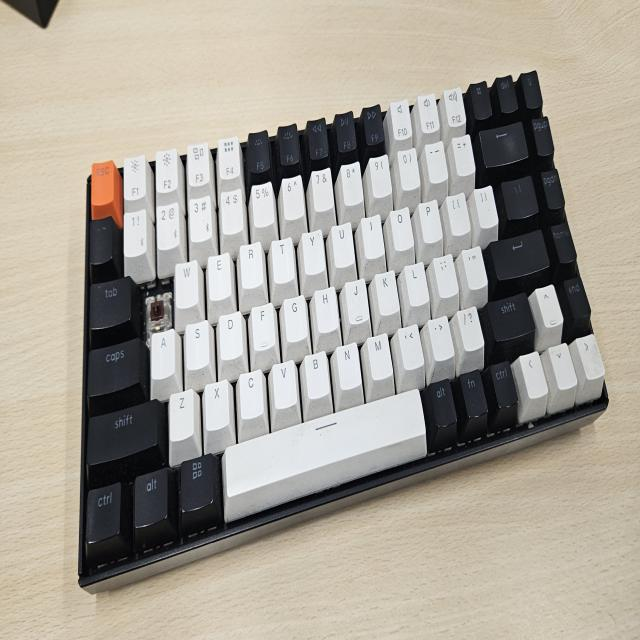C: (142, 286, 171, 329)
